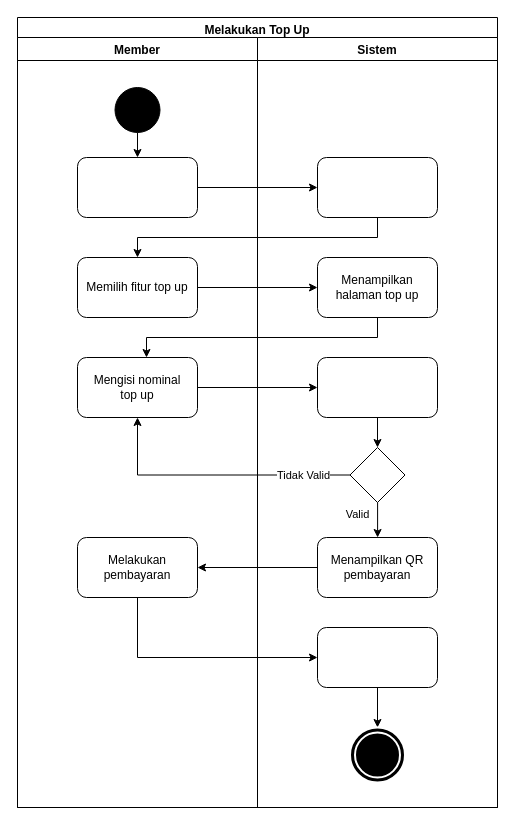
This 515x825 diagram has some shape labels left out. Here are the shapes that lost their labels. From the top down, the centre of each, then its label:
At [137,187]: "Membuka halaman wallet".
At [377,187]: "Menampilkan halaman wallet".
At [377,387]: "Melakukan validasi nominal".
At [377,657]: "Menambah saldo member".
